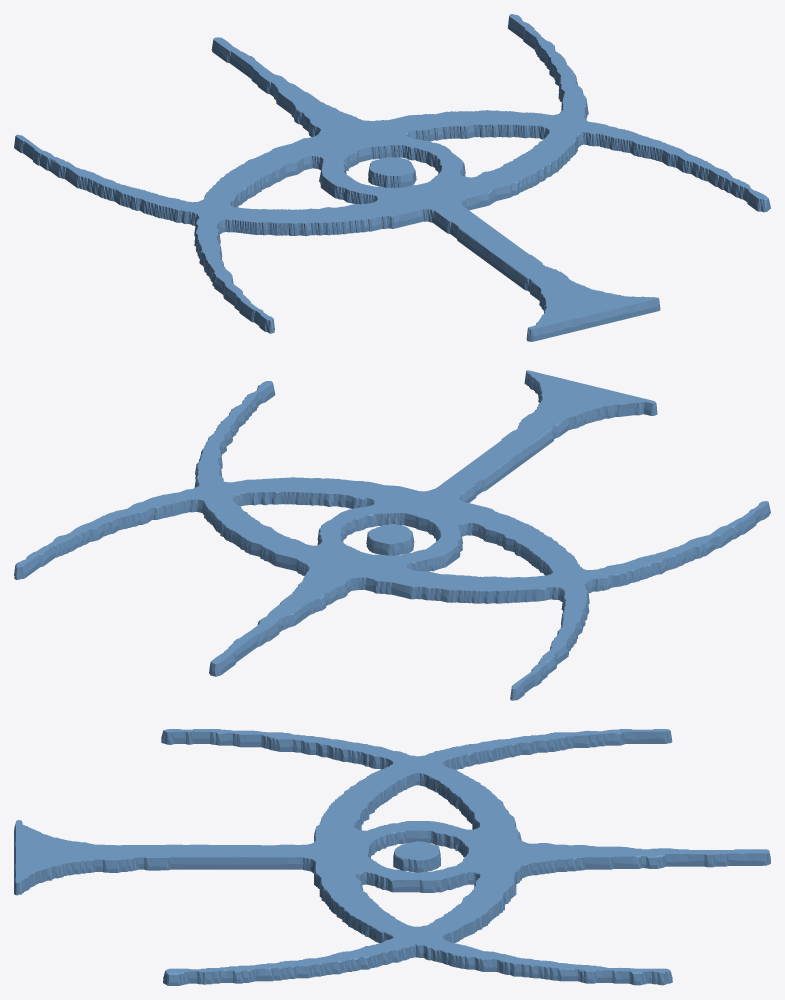
File: elvine.glb
The picture shows the model from 3 angles, top to bottom: view 1: azimuth 30°, elevation 25°; view 2: azimuth 150°, elevation 25°; view 3: azimuth 270°, elevation 25°; orthographic projection.
Parts seen in each view (by area): view 1: elvine; view 2: elvine; view 3: elvine.
Part boxes in pixels (left/top/right/bottom): elvine: left=14, top=14, right=770, bottom=341; elvine: left=14, top=370, right=770, bottom=700; elvine: left=14, top=729, right=770, bottom=985.
Bounding box in the file's own units: 0.0903 × 0.002 × 0.1175.
